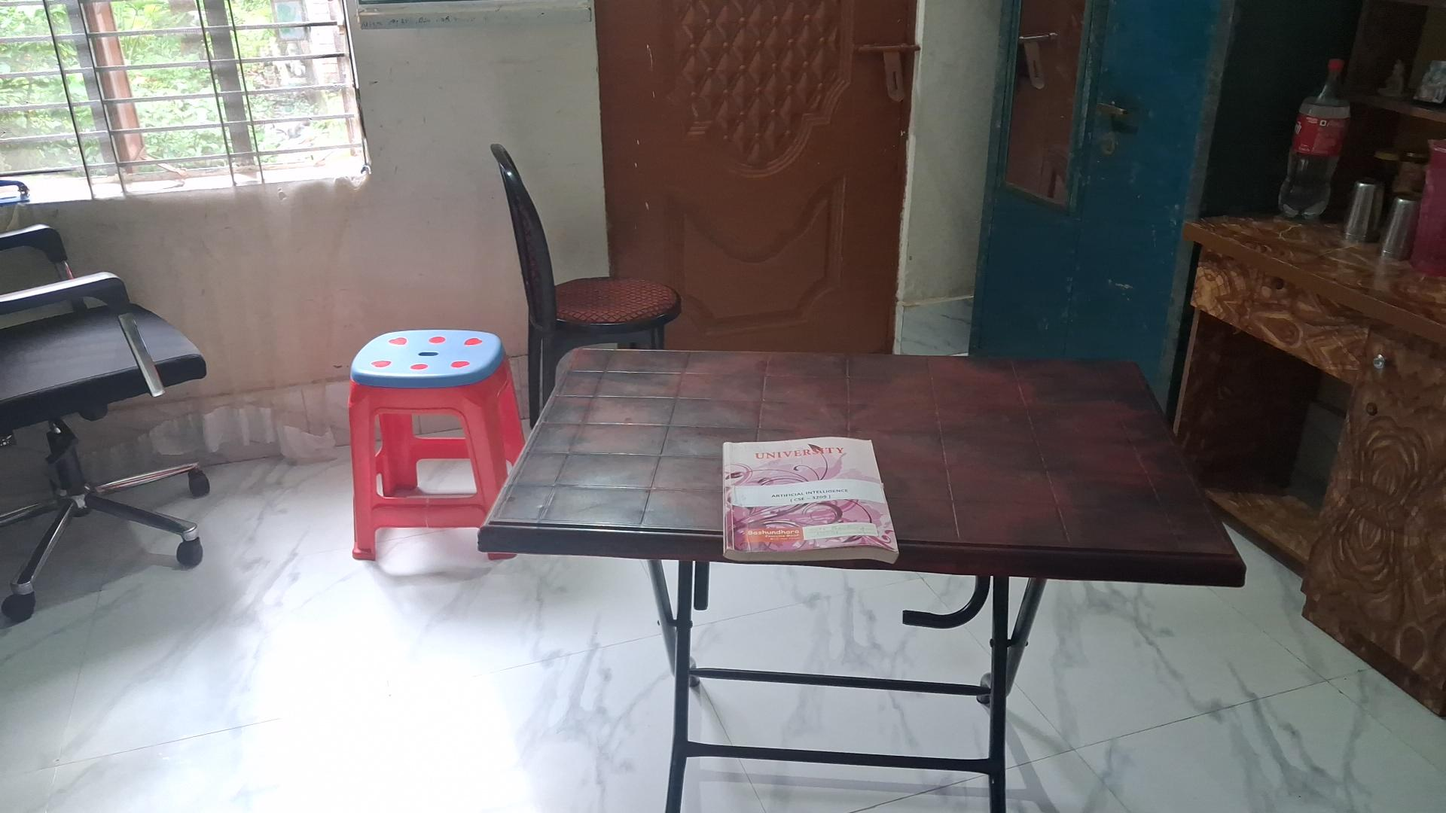Bottle: (1278, 58, 1350, 222)
Chair: (0, 228, 217, 627), (489, 143, 683, 421)
Door: (592, 8, 922, 364)
Glass: (1379, 193, 1423, 261), (1342, 180, 1378, 245)
Notebook: (720, 436, 902, 563)
Stool: (347, 327, 528, 577)
Table: (480, 353, 1247, 813)
Window: (0, 14, 372, 187)
